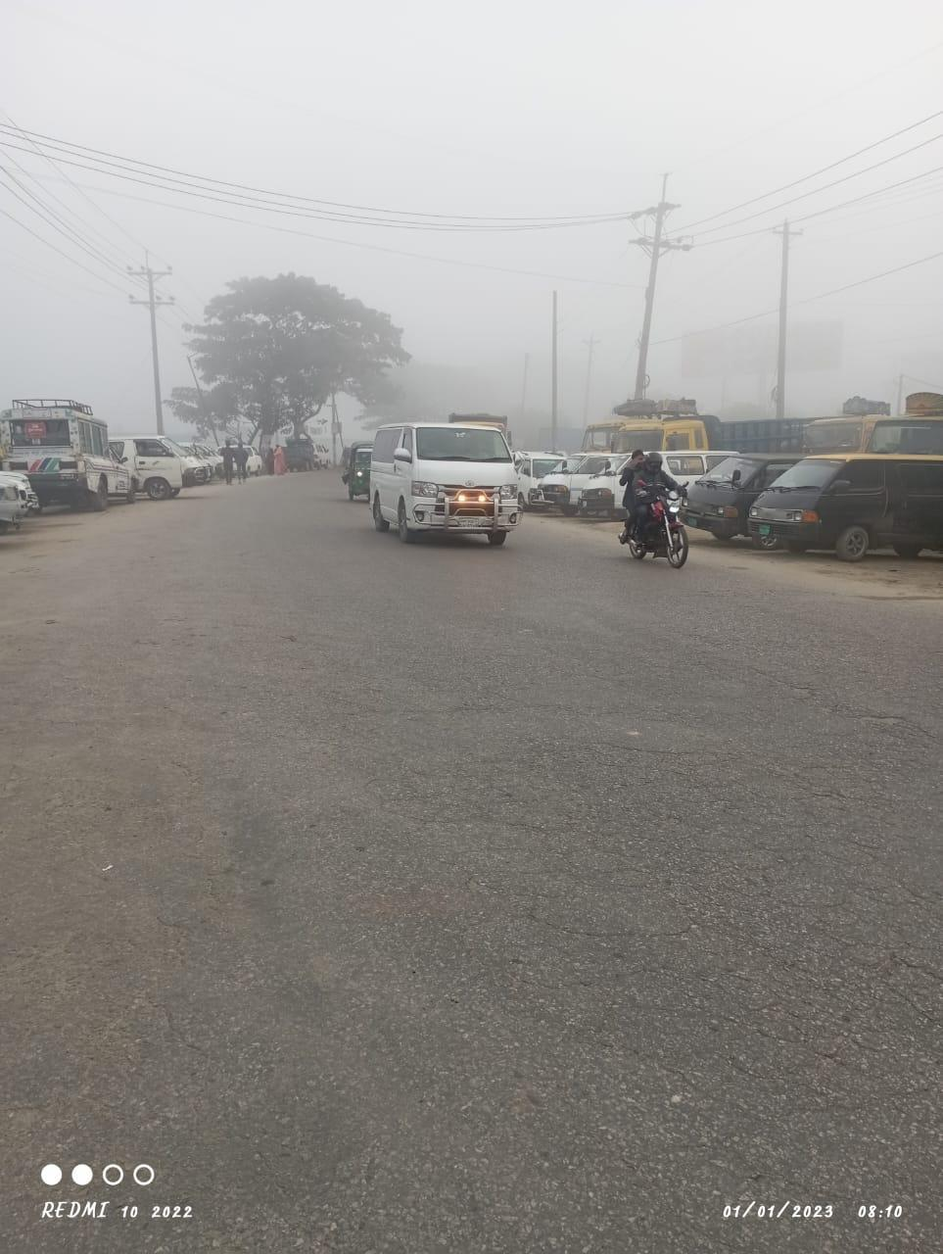Bike: (612, 446, 709, 576)
Car: (750, 442, 943, 591), (370, 418, 529, 560), (5, 384, 139, 522), (121, 422, 213, 512)
